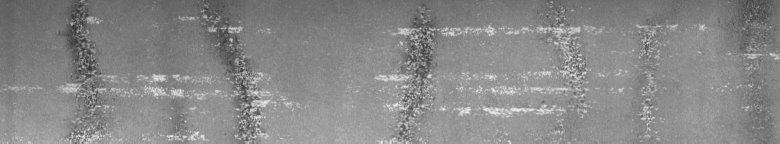hc: (65, 7, 264, 136)
